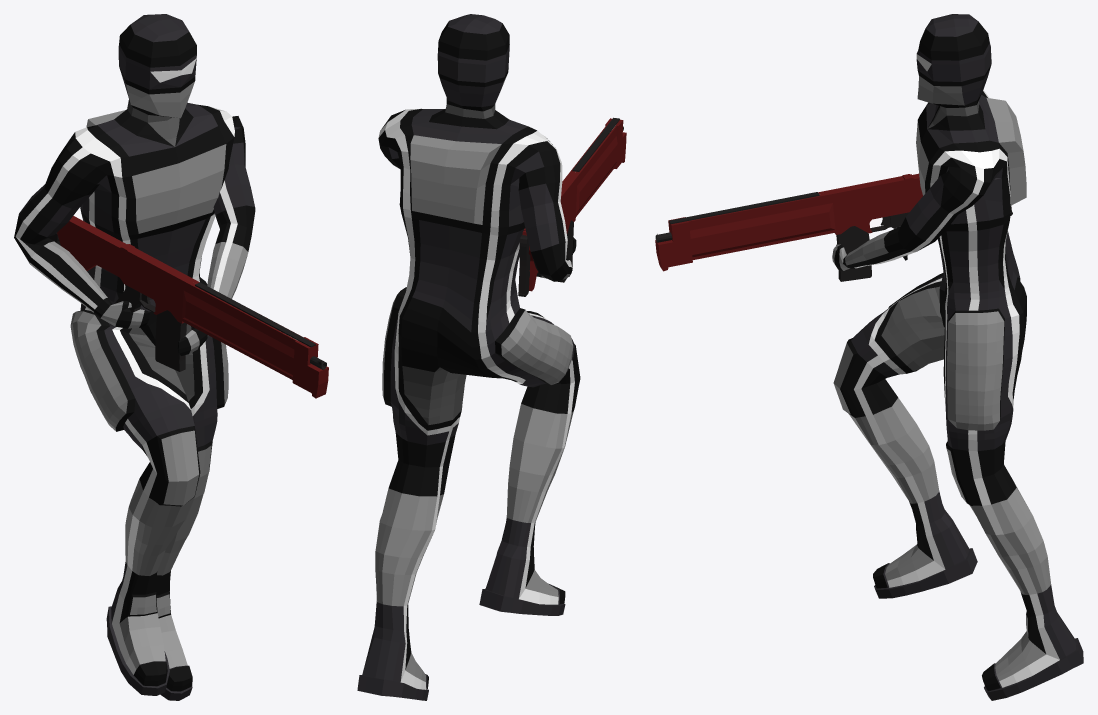
File: MCR2.obj
3 views of the same model, side by side, from view 1: azimuth 30°, elevation 25°; view 2: azimuth 150°, elevation 25°; view 3: azimuth 270°, elevation 25° (orthographic). The views are drawn at different scales.
Visible parts, largest first — view 1: metarig_object_metarig_mesh, Cube.001; view 2: metarig_object_metarig_mesh, Cube.001; view 3: metarig_object_metarig_mesh, Cube.001.
Part boxes in pixels (x1,y1,x2,y2): metarig_object_metarig_mesh: (14,14,255,700); Cube.001: (48,216,328,398); metarig_object_metarig_mesh: (357,14,580,700); Cube.001: (518,117,626,296); metarig_object_metarig_mesh: (832,14,1083,700); Cube.001: (655,173,1012,281).
Size of the model in its own units: 0.5418 by 1.76 by 1.03.
Materials: 2 (2 with a texture image).
